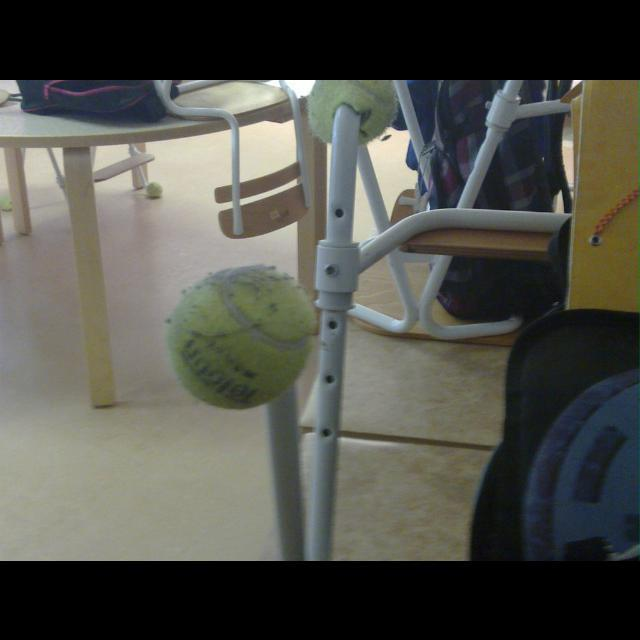tennis-ball: (163, 264, 316, 410)
